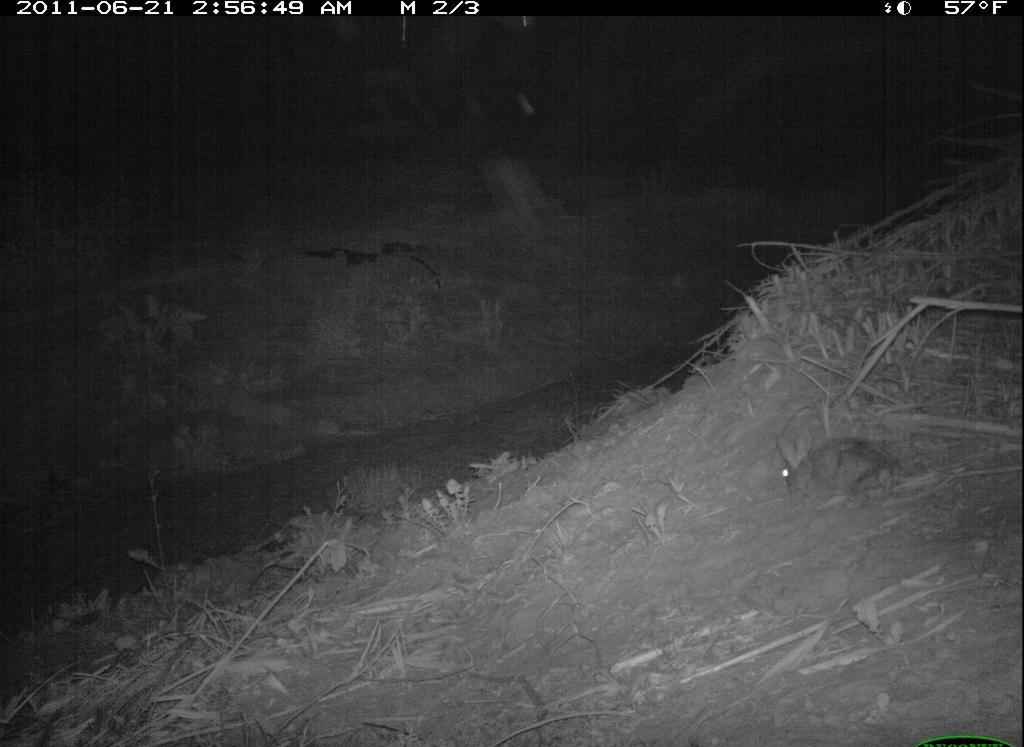rabbit: (775, 422, 905, 518)
